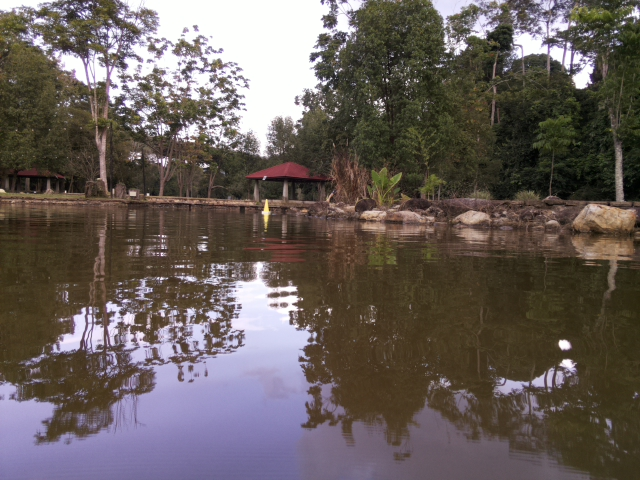checkpoint: (259, 200, 274, 215)
